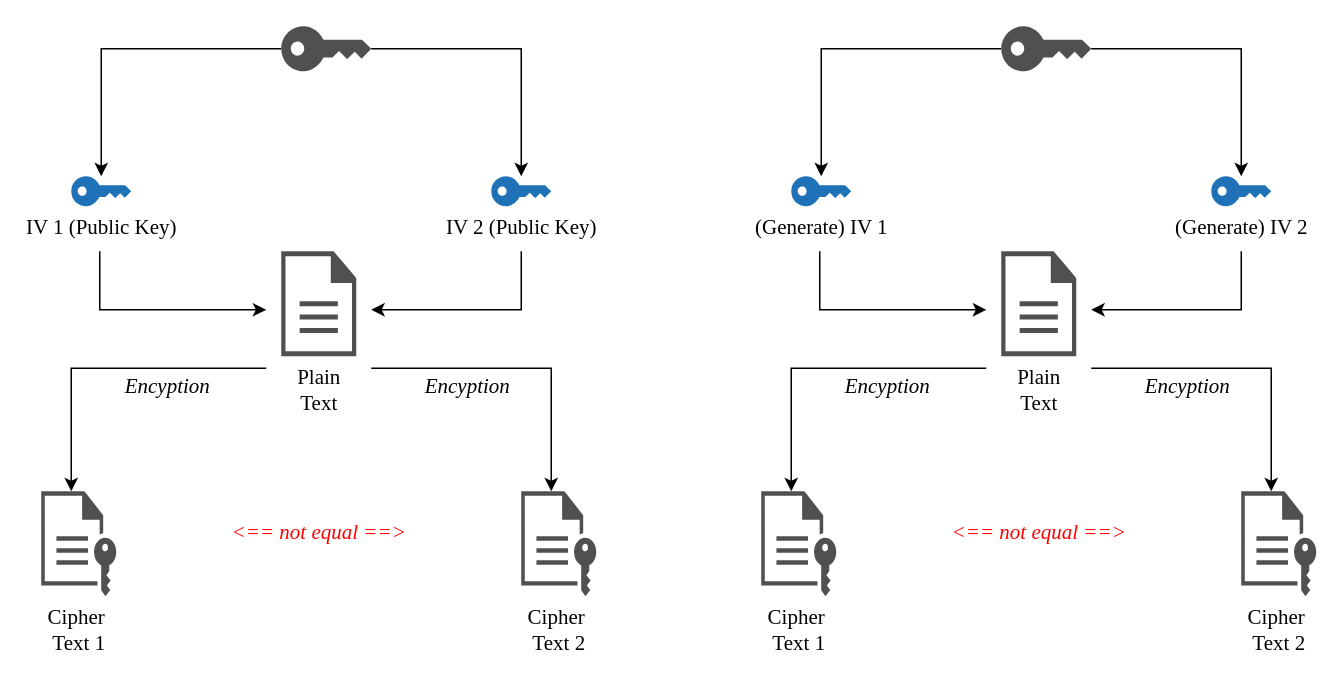
The diagram is 1341 pixels wide and 683 high, and some of its shapes have lost their labels. Here are the shapes that lost their labels. From the top down, the box of each, then its label:
(280, 26, 370, 70): Secret Key (Private Key)
(1000, 26, 1090, 70): Session ID (Every Login)
